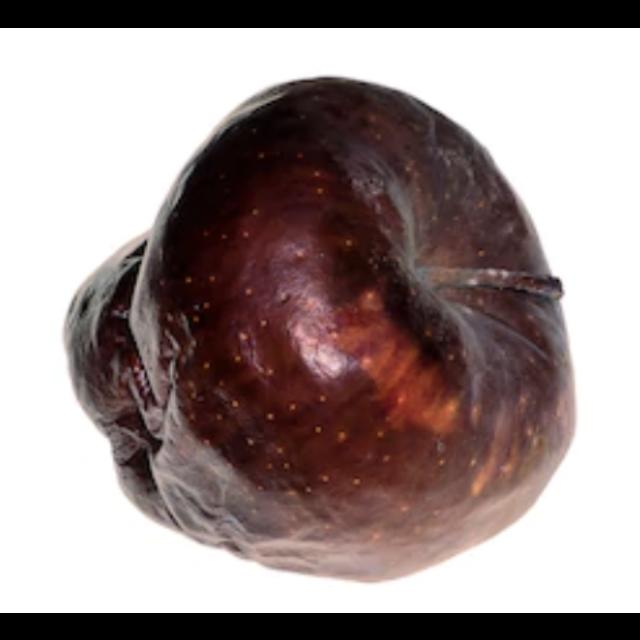Apel Tidak Segar: (49, 68, 576, 586)
